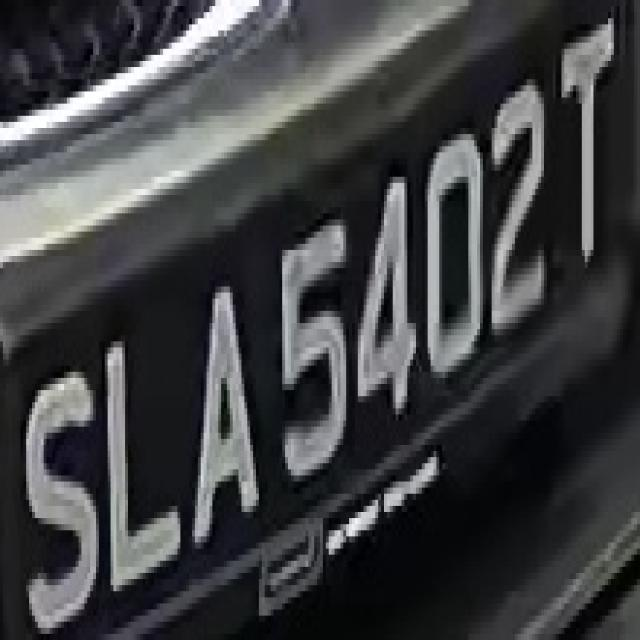0: (413, 122, 495, 390)
2: (474, 98, 559, 335)
4: (349, 158, 419, 426)
5: (271, 207, 352, 488)
A: (178, 250, 274, 567)
L: (96, 317, 183, 597)
S: (17, 341, 99, 640)
T: (550, 24, 628, 274)
